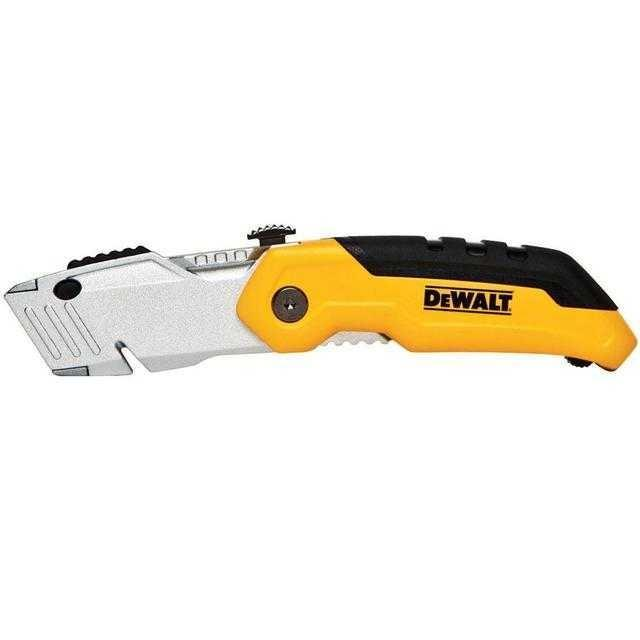Knife: (7, 222, 640, 392)
